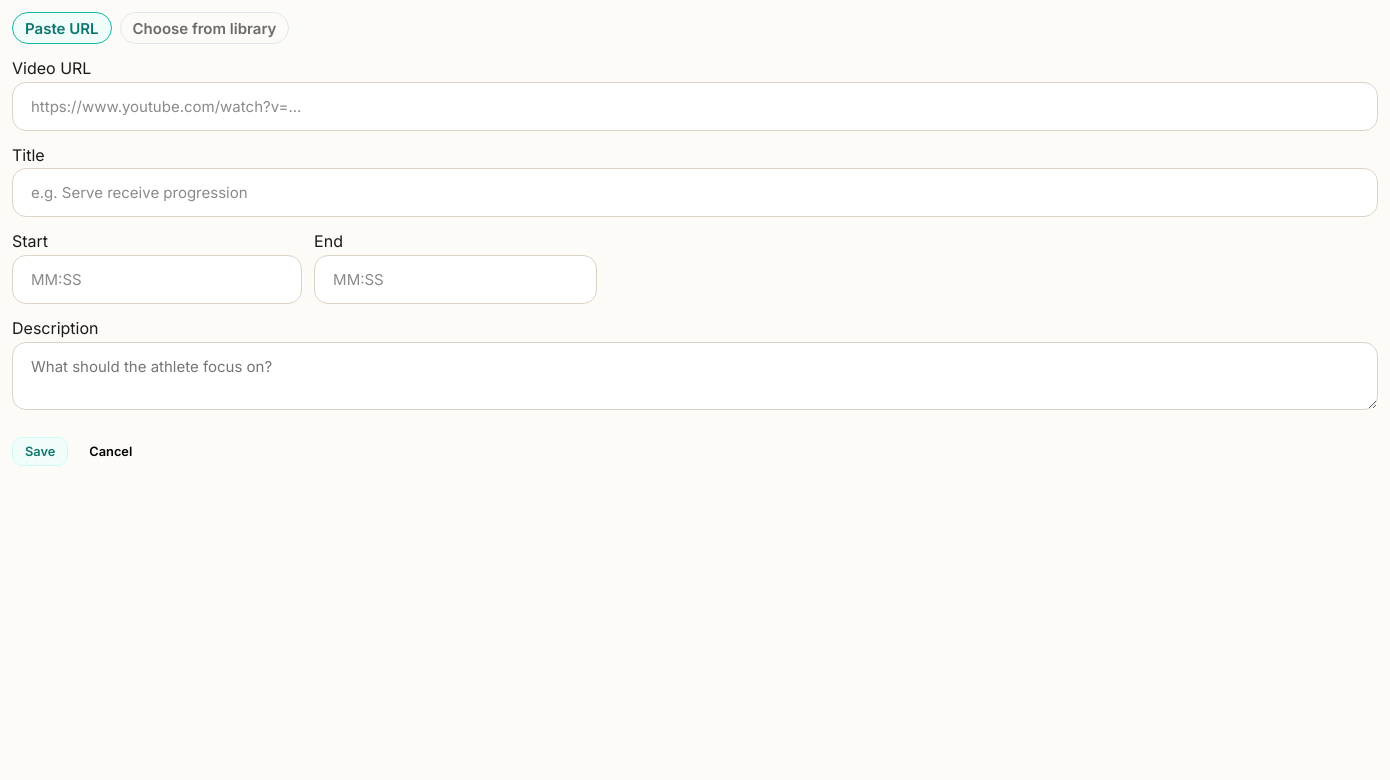
Test: VideoForm › rejects an end that is not after the start
Type "https://youtu.be/ABC123" into the field labelled "Video URL". click: x=695, y=106
box: [12,82,1378,131]
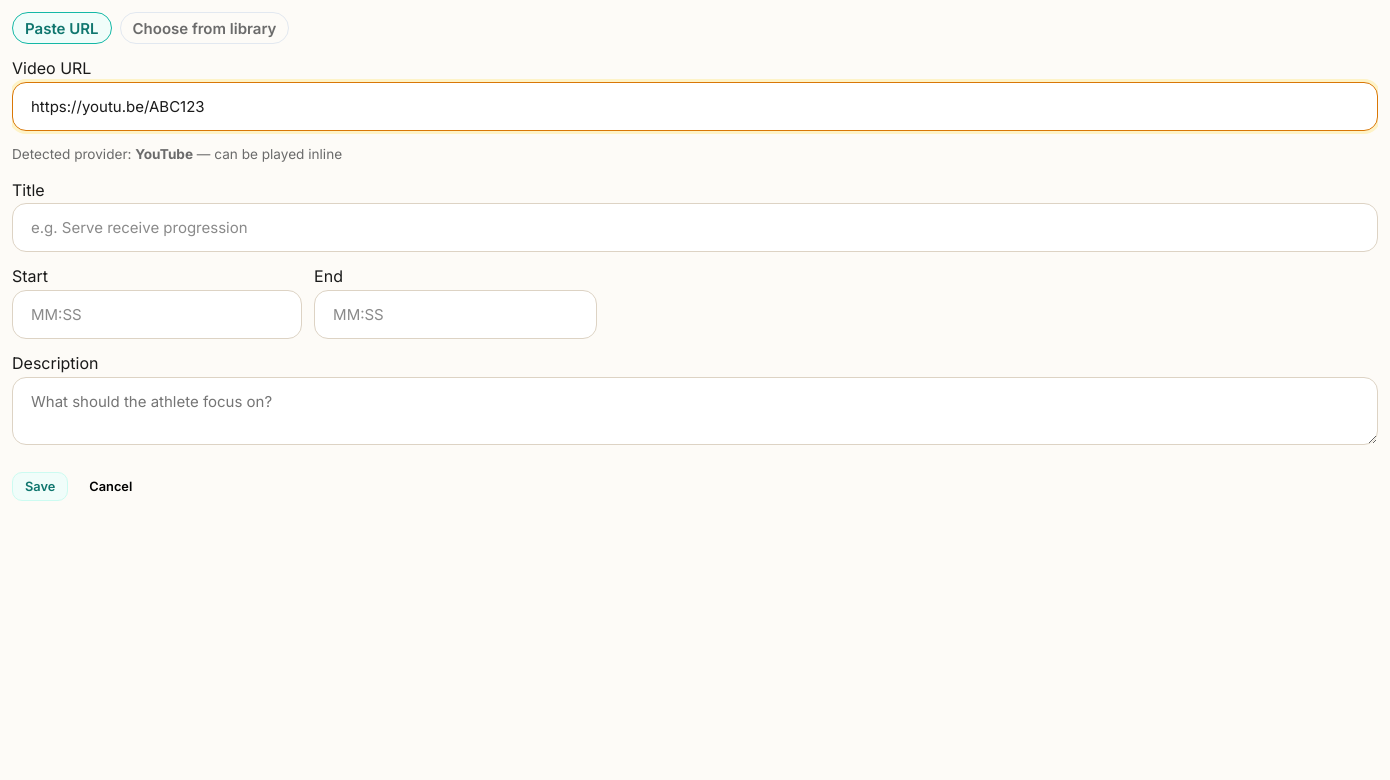
Type "06:18" into the field labelled "Start". click: x=157, y=315
box: [12,290,302,339]
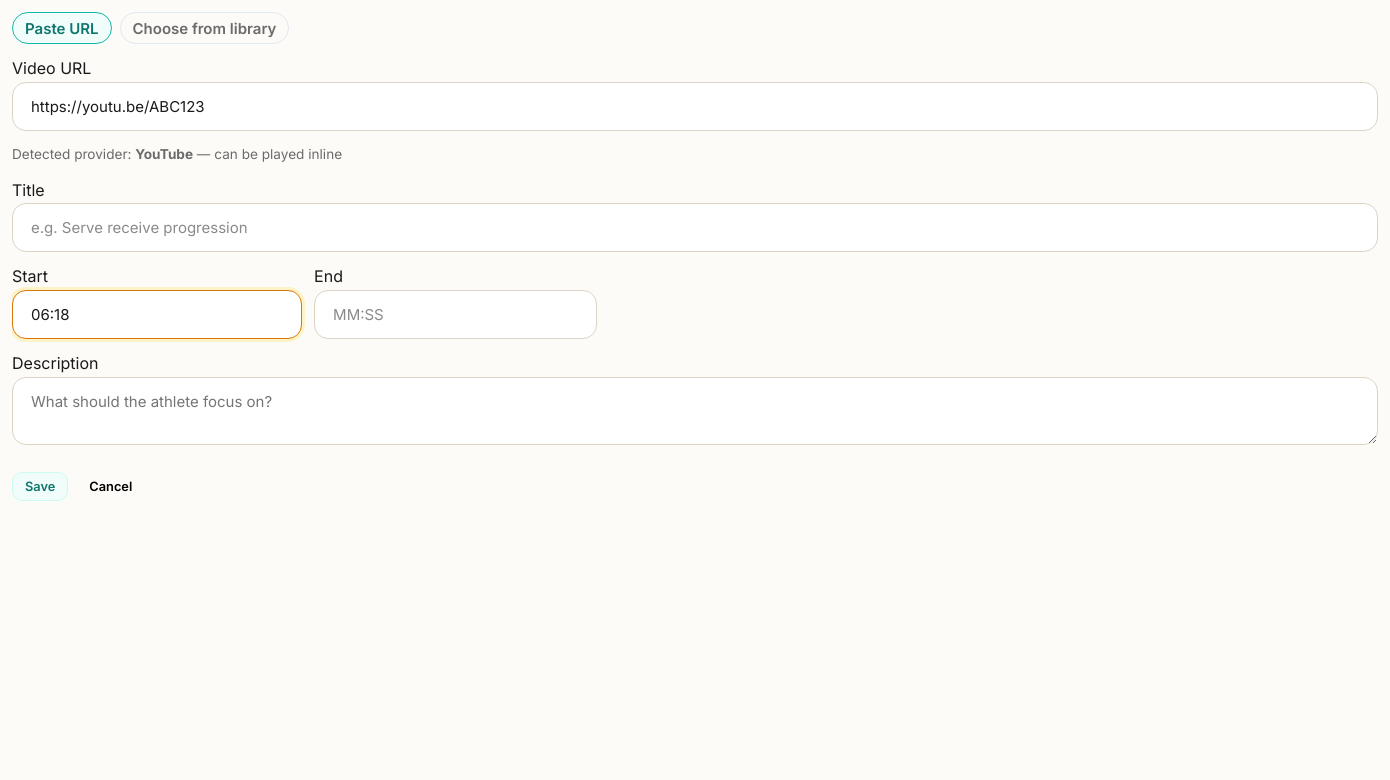
Type "04:32" into the field labelled "End". click: x=456, y=315
box: [314,290,597,339]
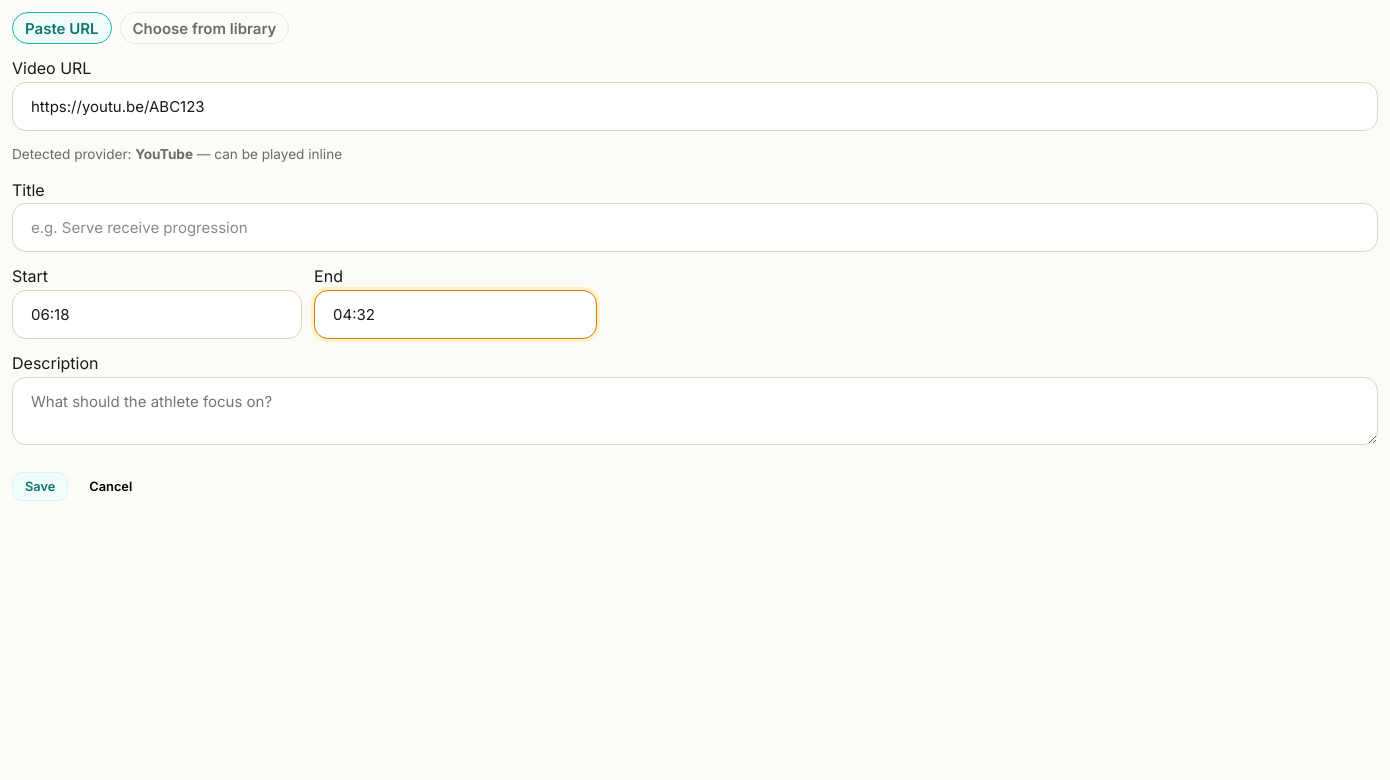
Click the button "Save". click: x=40, y=487
box: [12,472,68,501]
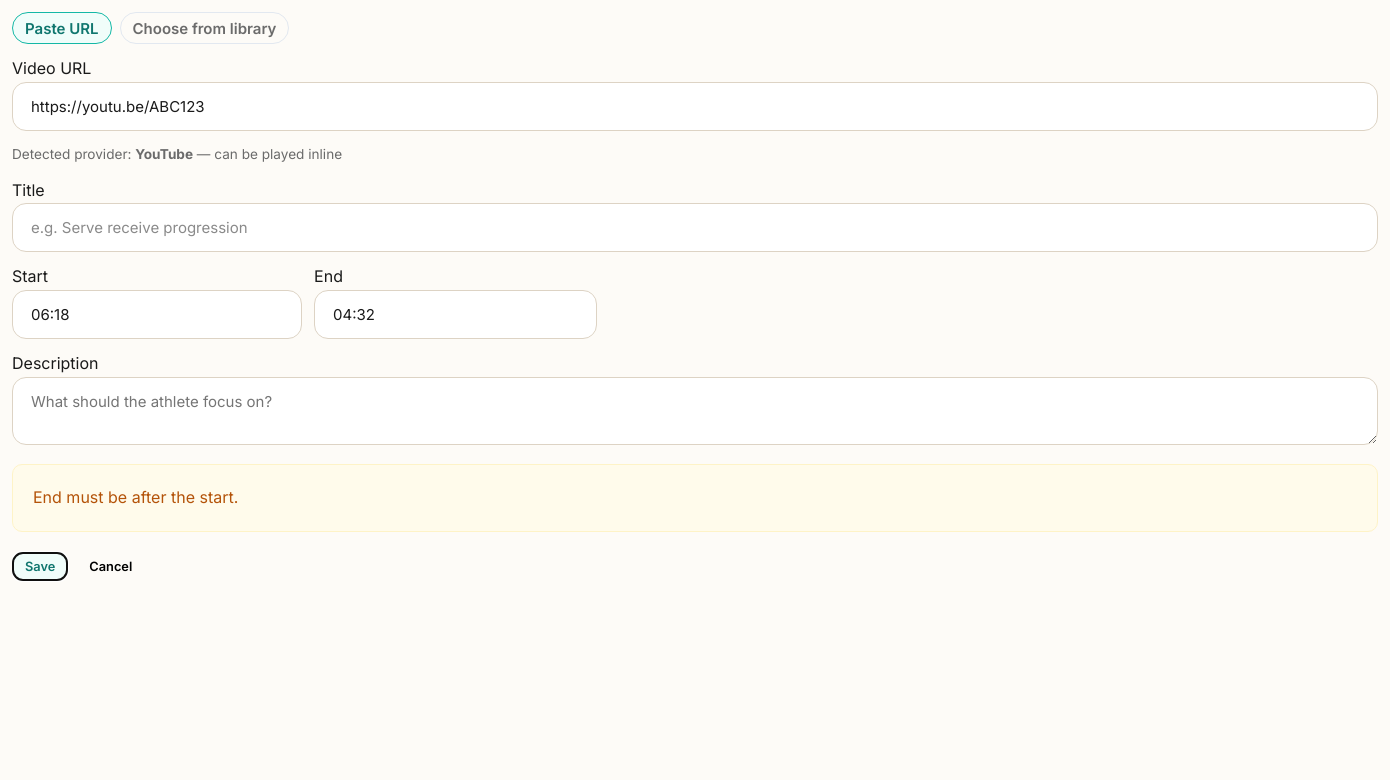
Now the list item "End must be after the start." is shown, box [33,487,238,507]
